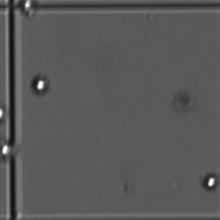Dead Cell: (173, 86, 198, 118)
Living Cell: (17, 1, 37, 17), (203, 173, 218, 190), (34, 77, 50, 91), (1, 140, 13, 157)
